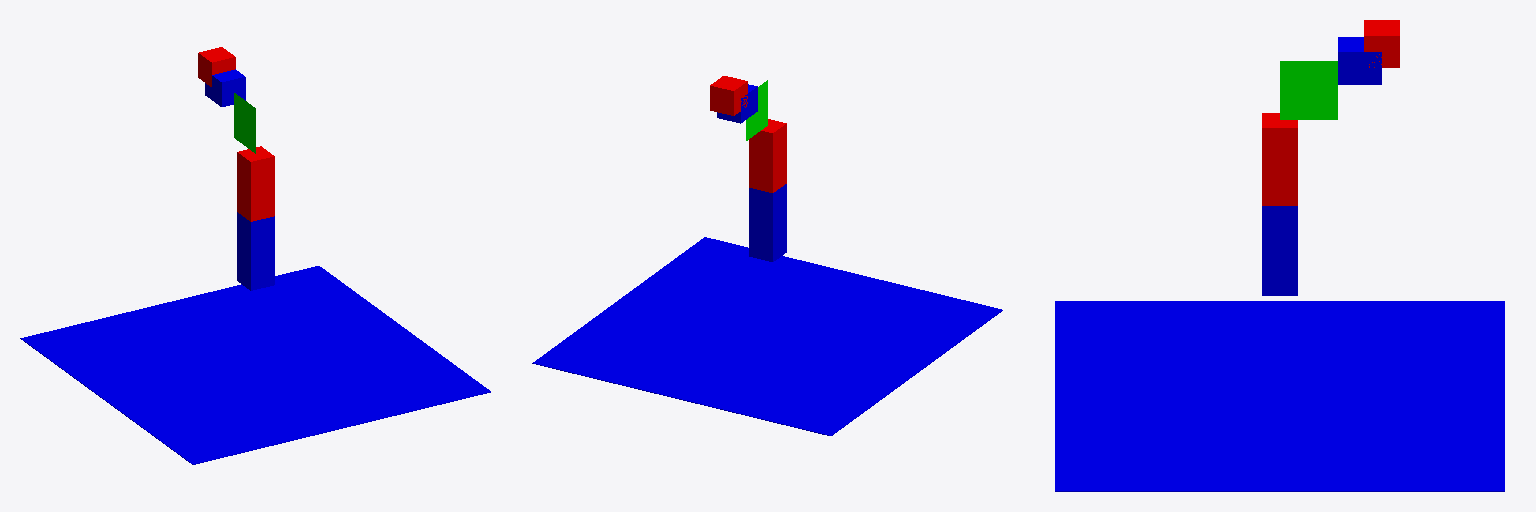
robot.urdf — sixdofarm:
<?xml version="1.0" ?>
<robot name="sixdofarm">

  <material name="red">
    <color rgba="1.0 0.0 0.0 1.0"/>
  </material>

  <material name="green">
    <color rgba="0.0 1.0 0.0 1.0"/>
  </material>

  <material name="blue">
    <color rgba="0.0 0.0 1.0 1.0"/>
  </material>




  <!-- world -->
  <link name="world"/>


  
  <joint name="world_2_base_link" type="fixed">
    <parent link="world"/>
    <child link="base_link"/>
    <origin rpy="0 0 0" xyz="0 0 0"/>
    
  </joint>
  




  <!-- base_link -->
  <link name="base_link">
    <collision>
      <origin rpy="0 0 0" xyz="0 0 0"/>
      <geometry>
        <box size="0.5 0.5 0.001"/>
      </geometry>
    </collision>

    <visual>
      <origin rpy="0 0 0" xyz="0 0 0"/>
      <geometry>
        <box size="0.5 0.5 0.001"/>
      </geometry>
      <material name="blue"/>
    </visual>

    <inertial>
      <origin rpy="0 0 0" xyz="0 0 0"/>
      <mass value="0"/>
      <inertia ixx="0" ixy="0" ixz="0" iyy="0" iyz="0" izz="0"/>
    </inertial>
  </link>


  
  <joint name="base_link_2_Link1" type="fixed">
    <parent link="base_link"/>
    <child link="Link1"/>
    <origin rpy="0 0 0" xyz="0 0 0.0"/>
    
  </joint>
  




  <!-- Link1 -->
  <link name="Link1">
    <collision>
      <origin rpy="0 0 0" xyz="0 0 0.06578"/>
      <geometry>
        <box size="0 0 0.13156"/>
      </geometry>
    </collision>

    <visual>
      <origin rpy="0 0 0" xyz="0 0 0.06578"/>
      <geometry>
        <box size="0 0 0.13156"/>
      </geometry>
      <material name="red"/>
    </visual>

    <inertial>
      <origin rpy="0 0 0" xyz="0 0 0.06578"/>
      <mass value="1"/>
      <inertia ixx="1" ixy="0" ixz="0" iyy="1" iyz="0" izz="1"/>
    </inertial>
  </link>


  
  <joint name="Link1_2_Link2" type="revolute">
    <parent link="Link1"/>
    <child link="Link2"/>
    <origin rpy="0 0 0" xyz="0 0 0.13156"/>
    
    <axis xyz="0 0 1"/>
    <limit effort="30" lower="-2.616" upper="2.617" velocity="1.571"/>
    
  </joint>
  




  <!-- Link2 -->
  <link name="Link2">
    <collision>
      <origin rpy="0 0 0" xyz="0 0 0"/>
      <geometry>
        <box size="0.01 0.01 0.01"/>
      </geometry>
    </collision>

    <visual>
      <origin rpy="0 0 0" xyz="0 0 0"/>
      <geometry>
        <box size="0.01 0.01 0.01"/>
      </geometry>
      <material name="green"/>
    </visual>

    <inertial>
      <origin rpy="0 0 0" xyz="0 0 0"/>
      <mass value="1"/>
      <inertia ixx="1" ixy="0" ixz="0" iyy="1" iyz="0" izz="1"/>
    </inertial>
  </link>


  
  <joint name="Link2_2_Link3" type="revolute">
    <parent link="Link2"/>
    <child link="Link3"/>
    <origin rpy="0 0 0" xyz="0 0 0"/>
    
    <axis xyz="0 1 0"/>
    <limit effort="30" lower="-2.616" upper="2.617" velocity="1.571"/>
    
  </joint>
  




  <!-- Link3 -->
  <link name="Link3">
    <collision>
      <origin rpy="0 0 0" xyz="0 0 0.0552"/>
      <geometry>
        <box size="0.04 0.04 0.1104"/>
      </geometry>
    </collision>

    <visual>
      <origin rpy="0 0 0" xyz="0 0 0.0552"/>
      <geometry>
        <box size="0.04 0.04 0.1104"/>
      </geometry>
      <material name="blue"/>
    </visual>

    <inertial>
      <origin rpy="0 0 0" xyz="0 0 0.0552"/>
      <mass value="1"/>
      <inertia ixx="1" ixy="0" ixz="0" iyy="1" iyz="0" izz="1"/>
    </inertial>
  </link>


  
  <joint name="Link3_2_Link4" type="revolute">
    <parent link="Link3"/>
    <child link="Link4"/>
    <origin rpy="0 0 0" xyz="0 0 0.1104"/>
    
    <axis xyz="0 1 0"/>
    <limit effort="30" lower="-2.616" upper="2.617" velocity="1.571"/>
    
  </joint>
  




  <!-- Link4 -->
  <link name="Link4">
    <collision>
      <origin rpy="0 0 0" xyz="0 0 0.048"/>
      <geometry>
        <box size="0.04 0.04 0.096"/>
      </geometry>
    </collision>

    <visual>
      <origin rpy="0 0 0" xyz="0 0 0.048"/>
      <geometry>
        <box size="0.04 0.04 0.096"/>
      </geometry>
      <material name="red"/>
    </visual>

    <inertial>
      <origin rpy="0 0 0" xyz="0 0 0.048"/>
      <mass value="1"/>
      <inertia ixx="1" ixy="0" ixz="0" iyy="1" iyz="0" izz="1"/>
    </inertial>
  </link>


  
  <joint name="Link4_2_Link5" type="revolute">
    <parent link="Link4"/>
    <child link="Link5"/>
    <origin rpy="0 0 0" xyz="0 0 0.096"/>
    
    <axis xyz="0 0 1"/>
    <limit effort="30" lower="-2.616" upper="2.617" velocity="1.571"/>
    
  </joint>
  




  <!-- Link5 -->
  <link name="Link5">
    <collision>
      <origin rpy="0 0 0" xyz="0 0.03231 0.03659"/>
      <geometry>
        <box size="0 0.06462 0.07318"/>
      </geometry>
    </collision>

    <visual>
      <origin rpy="0 0 0" xyz="0 0.03231 0.03659"/>
      <geometry>
        <box size="0 0.06462 0.07318"/>
      </geometry>
      <material name="green"/>
    </visual>

    <inertial>
      <origin rpy="0 0 0" xyz="0 0.03231 0.03659"/>
      <mass value="1"/>
      <inertia ixx="1" ixy="0" ixz="0" iyy="1" iyz="0" izz="1"/>
    </inertial>
  </link>


  
  <joint name="Link5_2_Link6" type="revolute">
    <parent link="Link5"/>
    <child link="Link6"/>
    <origin rpy="0 0 0" xyz="0 0.06462 0.07318"/>
    
    <axis xyz="0 1 0"/>
    <limit effort="30" lower="-2.616" upper="2.617" velocity="1.571"/>
    
  </joint>
  




  <!-- Link6 -->
  <link name="Link6">
    <collision>
      <origin rpy="0 0 0" xyz="0 0.0243 0"/>
      <geometry>
        <box size="0.04 0.0486 0.04"/>
      </geometry>
    </collision>

    <visual>
      <origin rpy="0 0 0" xyz="0 0.0243 0"/>
      <geometry>
        <box size="0.04 0.0486 0.04"/>
      </geometry>
      <material name="blue"/>
    </visual>

    <inertial>
      <origin rpy="0 0 0" xyz="0 0.0243 0"/>
      <mass value="1"/>
      <inertia ixx="1" ixy="0" ixz="0" iyy="1" iyz="0" izz="1"/>
    </inertial>
  </link>


  
  <joint name="Link6_2_Link7" type="revolute">
    <parent link="Link6"/>
    <child link="Link7"/>
    <origin rpy="0 0 0" xyz="0 0.0486 0"/>
    
    <axis xyz="0 0 1"/>
    <limit effort="30" lower="-2.616" upper="2.617" velocity="1.571"/>
    
  </joint>
  




  <!-- Link7 -->
  <link name="Link7">
    <collision>
      <origin rpy="0 0 0" xyz="0 0 0.02"/>
      <geometry>
        <box size="0.04 0.04 0.04"/>
      </geometry>
    </collision>

    <visual>
      <origin rpy="0 0 0" xyz="0 0 0.02"/>
      <geometry>
        <box size="0.04 0.04 0.04"/>
      </geometry>
      <material name="red"/>
    </visual>

    <inertial>
      <origin rpy="0 0 0" xyz="0 0 0.02"/>
      <mass value="1"/>
      <inertia ixx="1" ixy="0" ixz="0" iyy="1" iyz="0" izz="1"/>
    </inertial>
  </link>


  



</robot>

--- What the picture shows (computed from the rendered views, not written in the file) ---
The picture shows the robot from 3 angles, left to right: view 1: azimuth 30°, elevation 25°; view 2: azimuth 150°, elevation 25°; view 3: azimuth 270°, elevation 25°; orthographic projection.
Model sixdofarm with 9 links and 8 joints (6 revolute, 2 fixed), rooted at world, posed all joints at 0.
Visible links, largest first — view 1: base_link, Link3, Link4, Link6, Link5, Link7; view 2: base_link, Link3, Link4, Link7, Link5, Link6; view 3: base_link, Link5, Link3, Link4, Link6, Link7.
Link boxes in pixels (<box>): base_link: <box>20,266,490,464</box>; Link3: <box>237,212,274,290</box>; Link4: <box>237,146,274,221</box>; Link6: <box>205,69,245,106</box>; Link5: <box>234,93,255,153</box>; Link7: <box>198,47,235,86</box>; base_link: <box>532,237,1002,435</box>; Link3: <box>749,184,786,261</box>; Link4: <box>749,119,786,192</box>; Link7: <box>710,76,747,115</box>; Link5: <box>746,80,767,140</box>; Link6: <box>717,84,757,123</box>; base_link: <box>1055,301,1504,491</box>; Link5: <box>1280,61,1337,119</box>; Link3: <box>1262,206,1297,295</box>; Link4: <box>1262,113,1297,205</box>; Link6: <box>1338,37,1381,84</box>; Link7: <box>1364,20,1399,67</box>.
Size in the robot's own frame: 0.5 by 0.5 by 0.4516 metres.
Geometry: primitives only (box / cylinder / sphere), no mesh files.